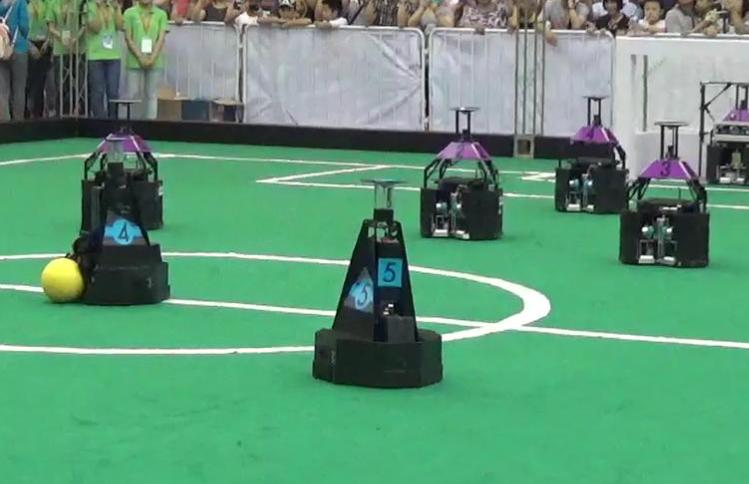robot: (307, 175, 454, 395), (55, 134, 179, 308), (614, 116, 715, 270), (415, 97, 508, 242), (552, 85, 635, 215)
